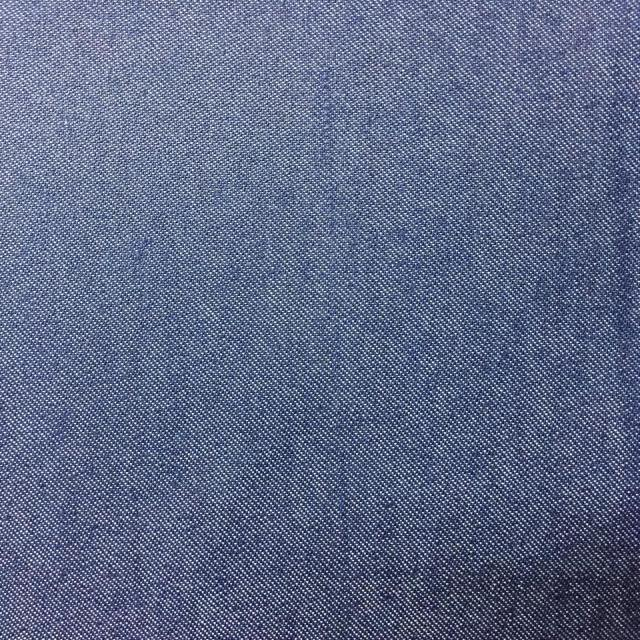Line: (317, 63, 356, 599)
